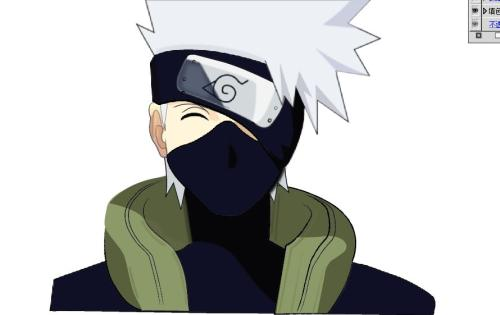kakashi: (147, 48, 310, 220)
